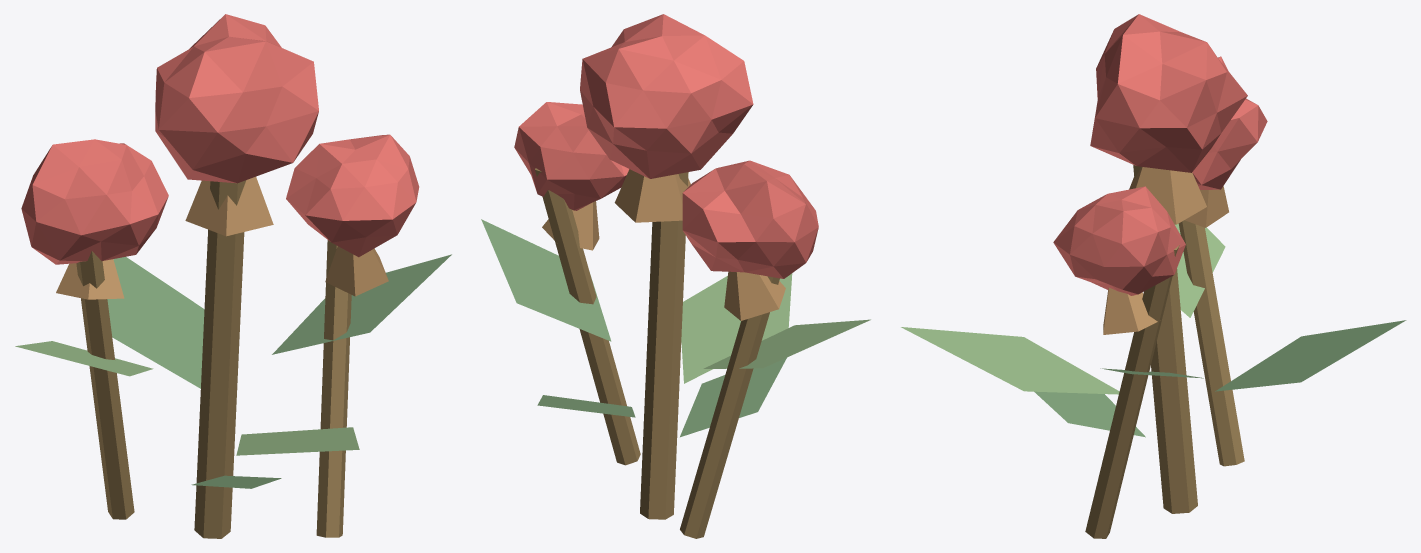
Rendered from t5_fiber_full.glb.
3 renders of one model, left to right at view 1: azimuth 30°, elevation 25°; view 2: azimuth 150°, elevation 25°; view 3: azimuth 270°, elevation 25°, orthographic. The views are drawn at different scales.
Parts seen in each view (by area): view 1: CenterCottonBoll, LeftCottonBoll, CenterStem, RightCottonBoll, BackLeaf, LeftStem, RightStem, RightLeaf, CenterHusk, FrontLeaf, RightHusk, LeftLeaf (+2 smaller); view 2: CenterCottonBoll, LeftCottonBoll, CenterStem, RightCottonBoll, RightStem, LeftStem, RightLeaf, FrontLeaf, CenterHusk, LowLeaf, LeftLeaf, LeftHusk (+2 smaller); view 3: CenterCottonBoll, RightCottonBoll, CenterStem, FrontLeaf, RightStem, LeftStem, BackLeaf, LeftCottonBoll, CenterHusk, LowLeaf, RightHusk, LeftLeaf (+1 smaller).
Boxes of the visible parts, box(x1,y1,x2,y2) form: CenterCottonBoll: box(155, 14, 318, 183); LeftCottonBoll: box(21, 139, 168, 264); CenterStem: box(194, 180, 245, 538); RightCottonBoll: box(286, 134, 419, 257); BackLeaf: box(107, 257, 204, 388); LeftStem: box(76, 251, 134, 519); RightStem: box(316, 240, 351, 537); RightLeaf: box(272, 254, 451, 354); CenterHusk: box(185, 176, 273, 236); FrontLeaf: box(236, 427, 359, 455); RightHusk: box(325, 246, 388, 296); LeftLeaf: box(15, 341, 153, 376); CenterCottonBoll: box(580, 14, 753, 178); LeftCottonBoll: box(682, 160, 818, 278); CenterStem: box(640, 172, 688, 519); RightCottonBoll: box(514, 102, 629, 210); RightStem: box(535, 168, 640, 465); LeftStem: box(680, 276, 779, 538); RightLeaf: box(481, 219, 611, 341); FrontLeaf: box(681, 273, 792, 383); CenterHusk: box(614, 169, 690, 222); LowLeaf: box(680, 357, 786, 437); LeftLeaf: box(703, 319, 870, 368); LeftHusk: box(724, 271, 785, 320); CenterCottonBoll: box(1090, 14, 1247, 172); RightCottonBoll: box(1053, 186, 1185, 295); CenterStem: box(1133, 165, 1197, 513); FrontLeaf: box(901, 327, 1119, 394); RightStem: box(1085, 245, 1179, 538); LeftStem: box(1178, 220, 1244, 466); BackLeaf: box(1215, 320, 1406, 391); LeftCottonBoll: box(1192, 56, 1267, 189); CenterHusk: box(1129, 167, 1206, 224); LowLeaf: box(1034, 391, 1145, 437); RightHusk: box(1103, 287, 1157, 334); LeftLeaf: box(1175, 223, 1225, 317).
Bounding box in the file's own units: 0.9519 × 1.08 × 1.02.
